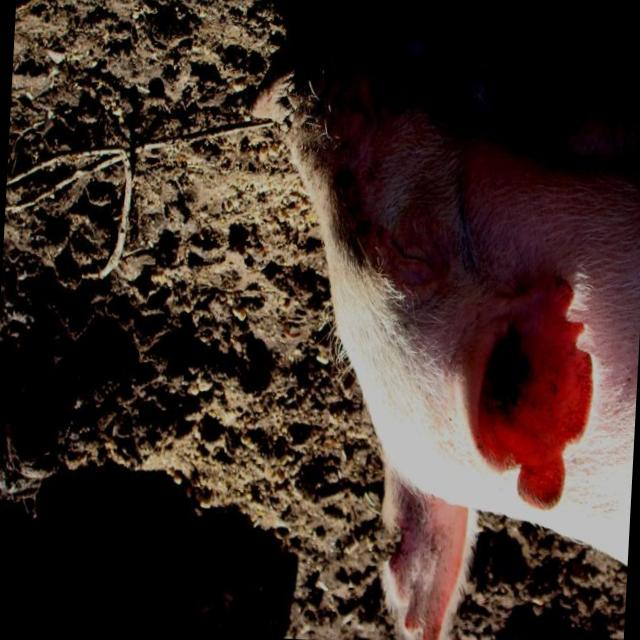pig: (287, 83, 640, 640)
